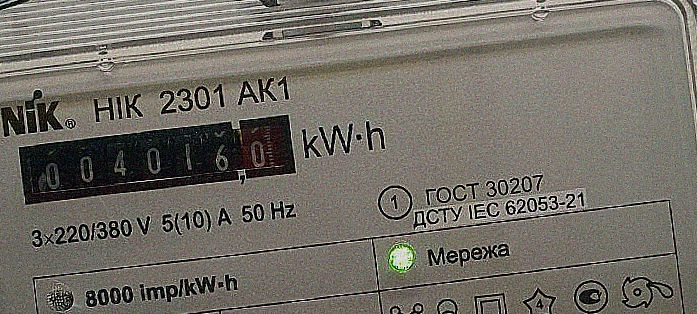0: (142, 141, 166, 178), (41, 157, 65, 192), (75, 150, 98, 186), (246, 136, 269, 170)
1: (179, 137, 198, 172)
4: (109, 144, 130, 180)
6: (210, 138, 232, 172)
screen: (10, 106, 305, 212)
